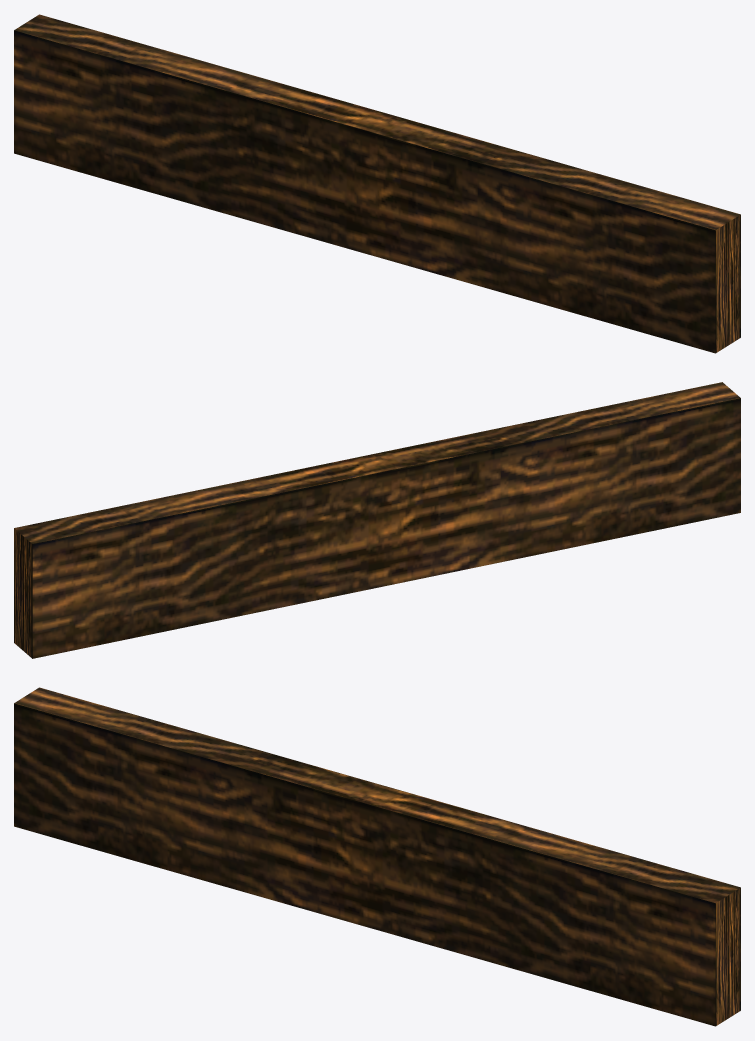
The model's file is OVERHILL_A_01_BOX89.fbx.
The picture shows the model from 3 angles, top to bottom: view 1: azimuth 90°, elevation 25°; view 2: azimuth 150°, elevation 25°; view 3: azimuth 270°, elevation 25°; orthographic projection. The views are drawn at different scales.
Visible parts, largest first — view 1: OVERHILL_A_01_BOX89; view 2: OVERHILL_A_01_BOX89; view 3: OVERHILL_A_01_BOX89.
Boxes of the visible parts, bbox=[...] form: OVERHILL_A_01_BOX89: bbox=[14, 14, 740, 353]; OVERHILL_A_01_BOX89: bbox=[14, 382, 740, 658]; OVERHILL_A_01_BOX89: bbox=[14, 687, 740, 1026].
Bounding box in the file's own units: 5636 × 1500 × 8021.
1 material, 1 textured.
